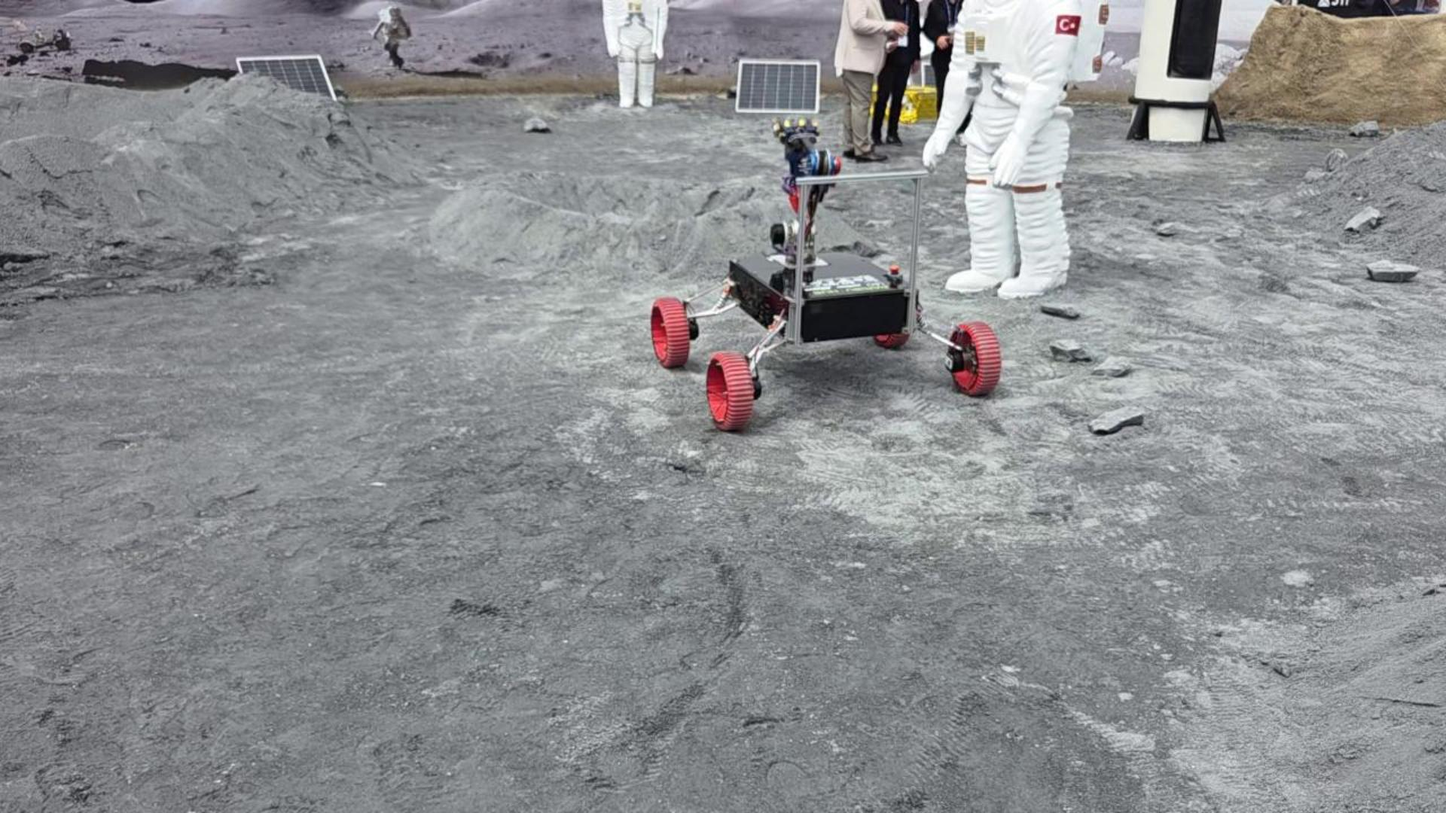rock: (1088, 406, 1143, 434), (1366, 260, 1419, 281), (1048, 340, 1094, 361), (1343, 207, 1382, 231), (1091, 357, 1132, 376), (1039, 304, 1081, 318), (1325, 148, 1348, 171), (1349, 121, 1379, 137), (523, 117, 550, 132), (1155, 222, 1182, 236)
